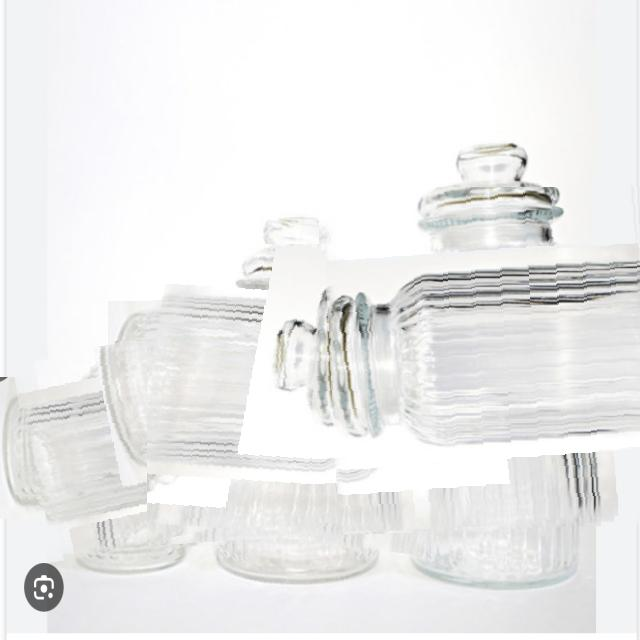recyclable: (321, 187, 640, 532), (147, 244, 450, 547), (20, 341, 236, 556)
